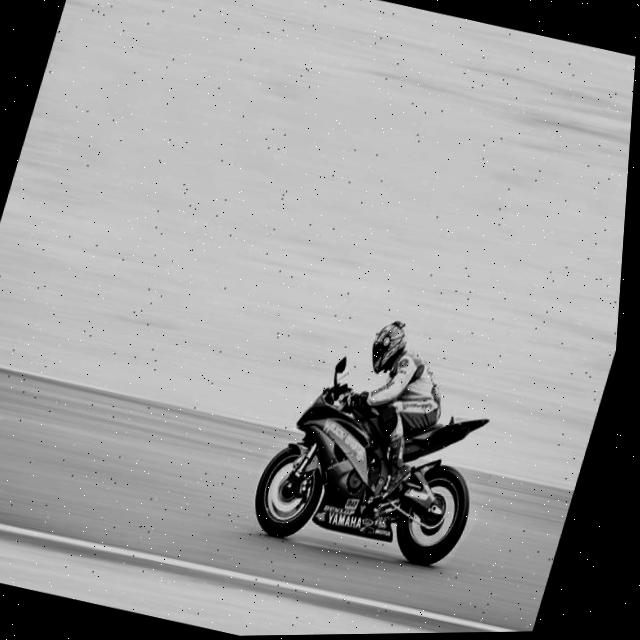motorcycle: (237, 356, 514, 591)
